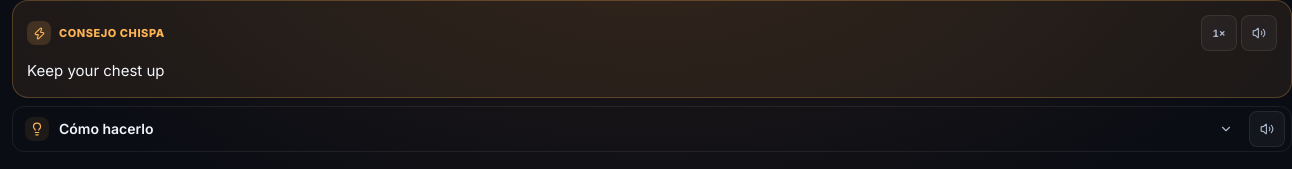
ExerciseExplainer › cycles the reading speed with the rate chip
The width and height of the screenshot is (1292, 169).
Click the button named "Velocidad de lectura": (1219, 33) [1201,15,1237,51]
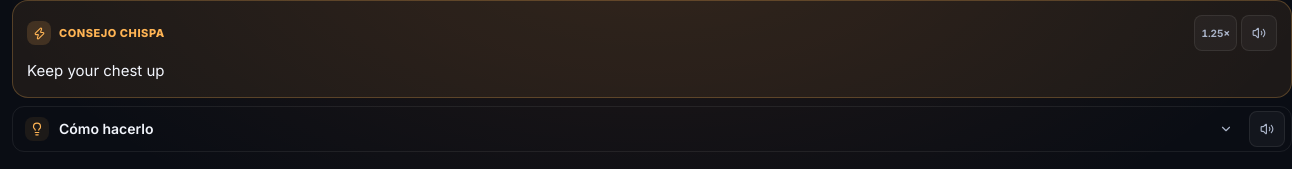
Now the button named "Velocidad de lectura" reads "1.25×", box [1194,15,1237,51]
